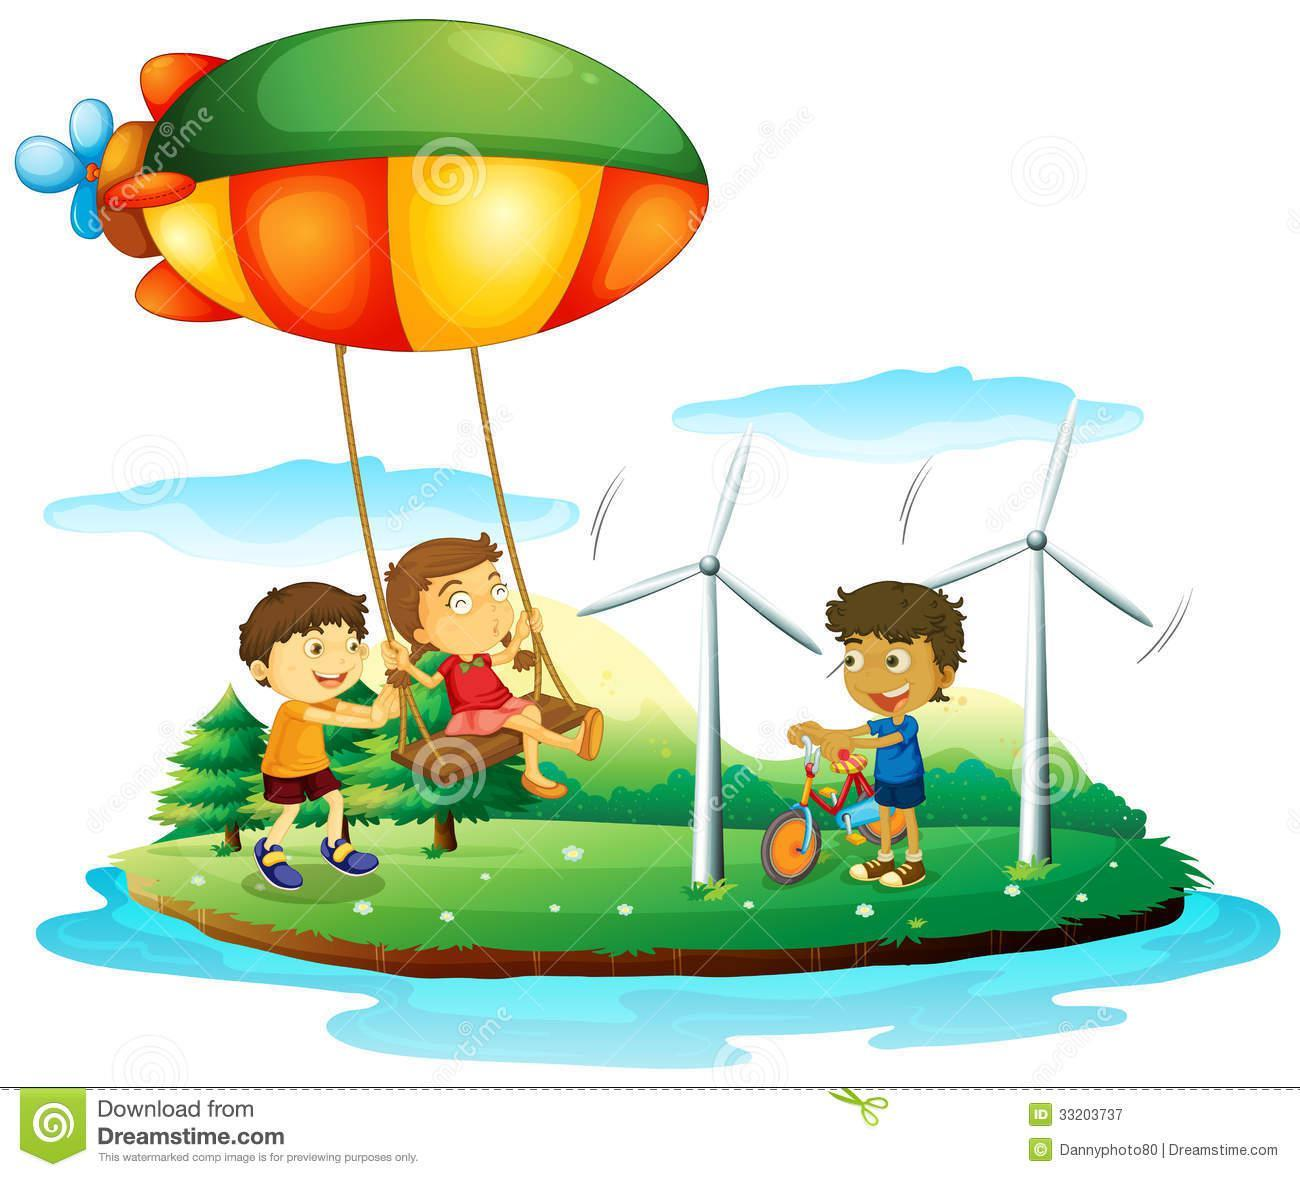bicycle: (750, 729, 928, 888)
person: (374, 541, 616, 805), (230, 578, 401, 898), (827, 580, 969, 905)
